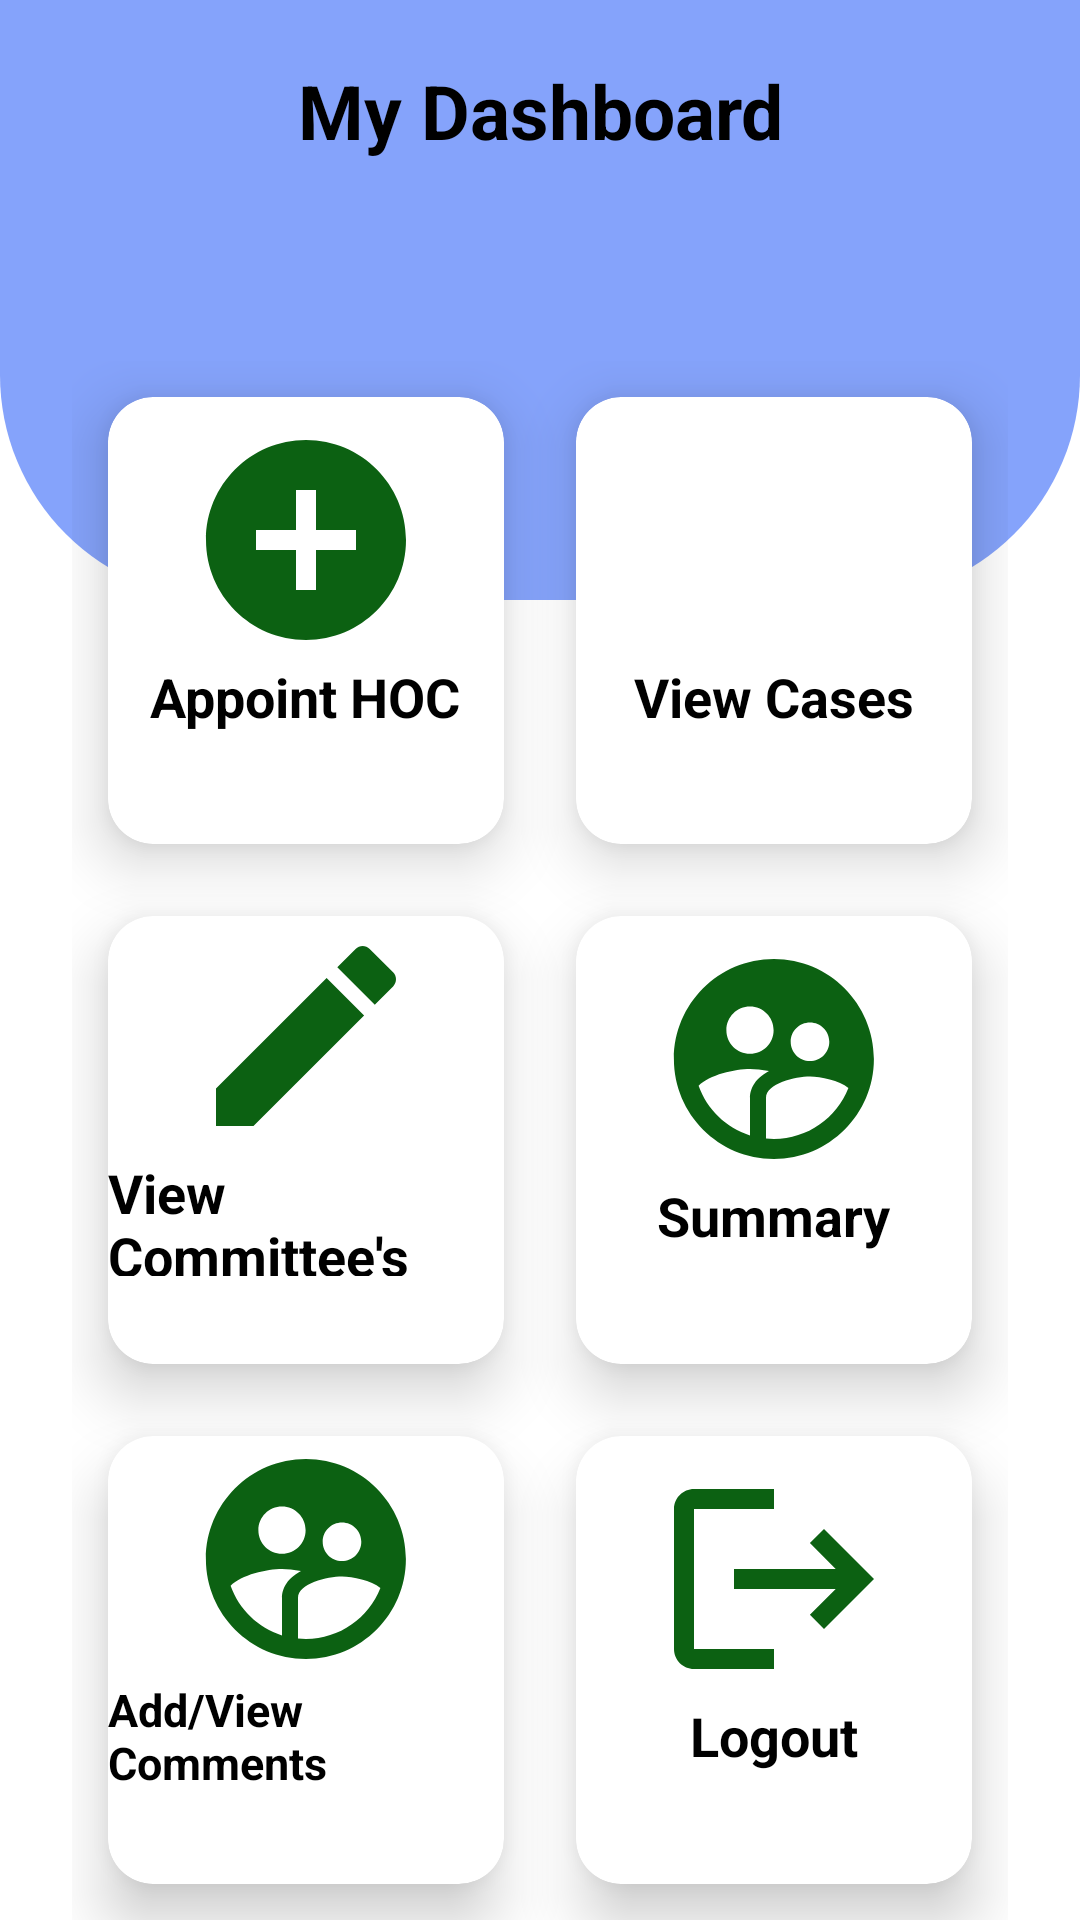

Screen size 1080x1920. Icon name, then its center in pixels as (x,y):
add circle: (305,540)
edit: (306,1036)
supervised user circle: (773,1059), (305,1559)
